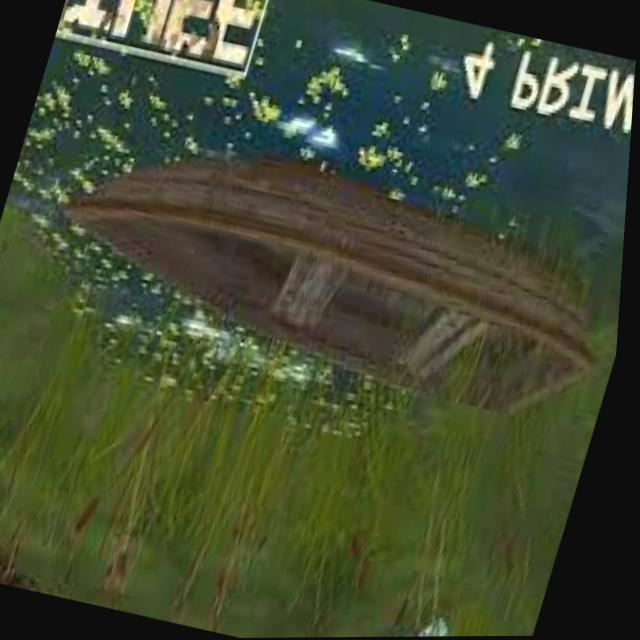ship2: (67, 151, 598, 413)
